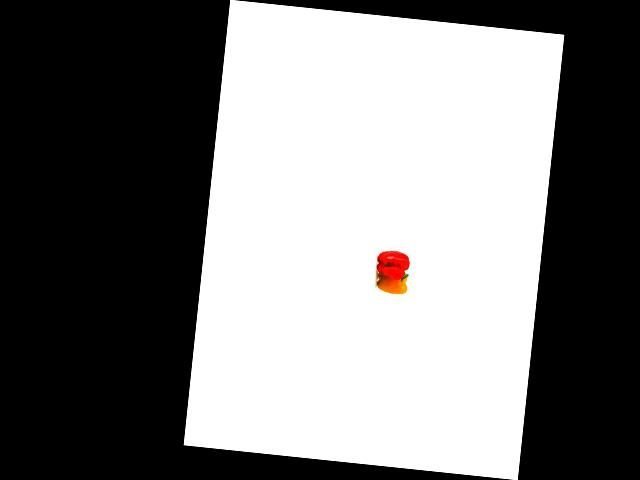bell_pepper: (374, 266, 408, 295)
